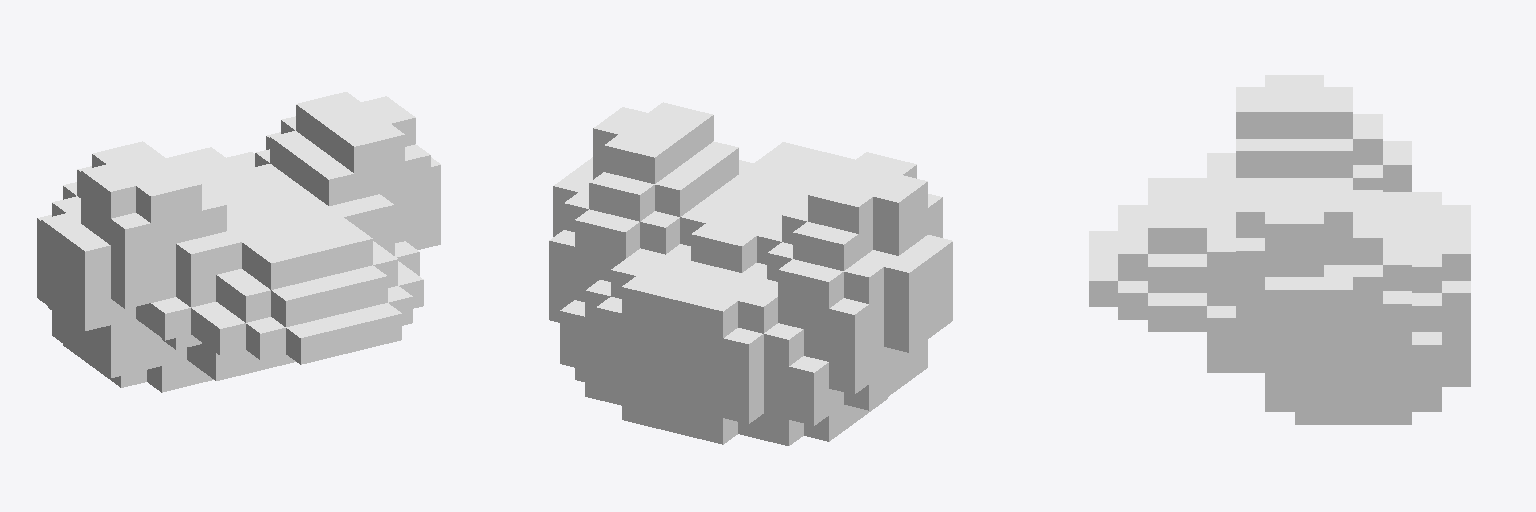
The model's file is head-1-top.obj.
3 renders of one model, left to right at view 1: azimuth 30°, elevation 25°; view 2: azimuth 150°, elevation 25°; view 3: azimuth 270°, elevation 25°, orthographic.
Parts seen in each view (by area): view 1: top; view 2: top; view 3: top.
Part boxes in pixels (bbox=[...]): top: bbox=[37, 92, 440, 392]; top: bbox=[549, 102, 952, 445]; top: bbox=[1089, 75, 1470, 424].
Bounding box in the file's own units: 1.4 × 0.8 × 1.3.